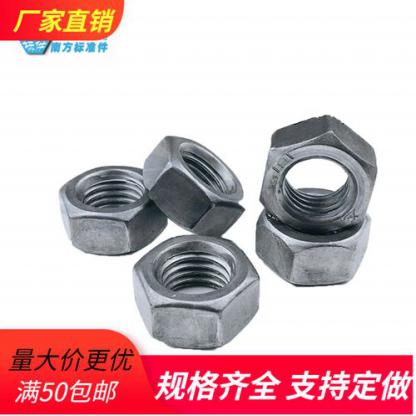FOD: (127, 231, 262, 351), (258, 112, 383, 230), (145, 131, 252, 243), (257, 192, 374, 291), (56, 162, 168, 256)
